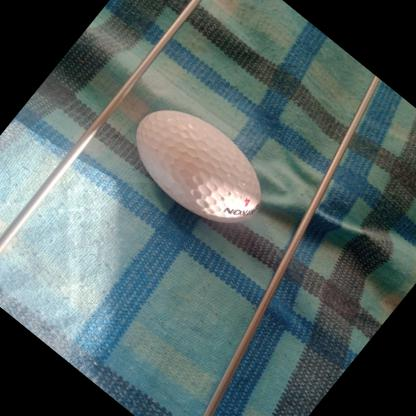Golf: (111, 84, 286, 249)
